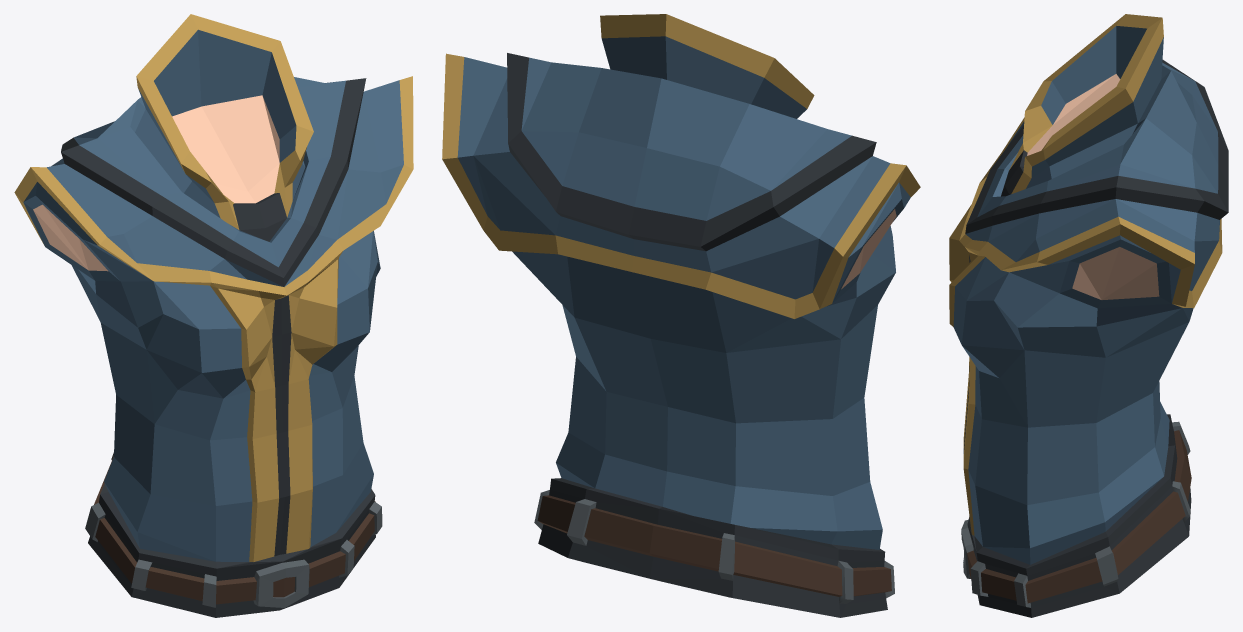
Rendered from Chr_Torso_Female_09_Static.fbx.
3 views of the same model, side by side, from view 1: azimuth 30°, elevation 25°; view 2: azimuth 150°, elevation 25°; view 3: azimuth 270°, elevation 25° (orthographic). The views are drawn at different scales.
Parts seen in each view (by area): view 1: Chr_Torso_Female_09_Static; view 2: Chr_Torso_Female_09_Static; view 3: Chr_Torso_Female_09_Static.
Part boxes in pixels (x1,y1,x2,y2): Chr_Torso_Female_09_Static: (14,14,413,617); Chr_Torso_Female_09_Static: (442,14,920,617); Chr_Torso_Female_09_Static: (949,14,1228,617).
Bounding box in the file's own units: 0.5642 × 0.7504 × 0.3387.
